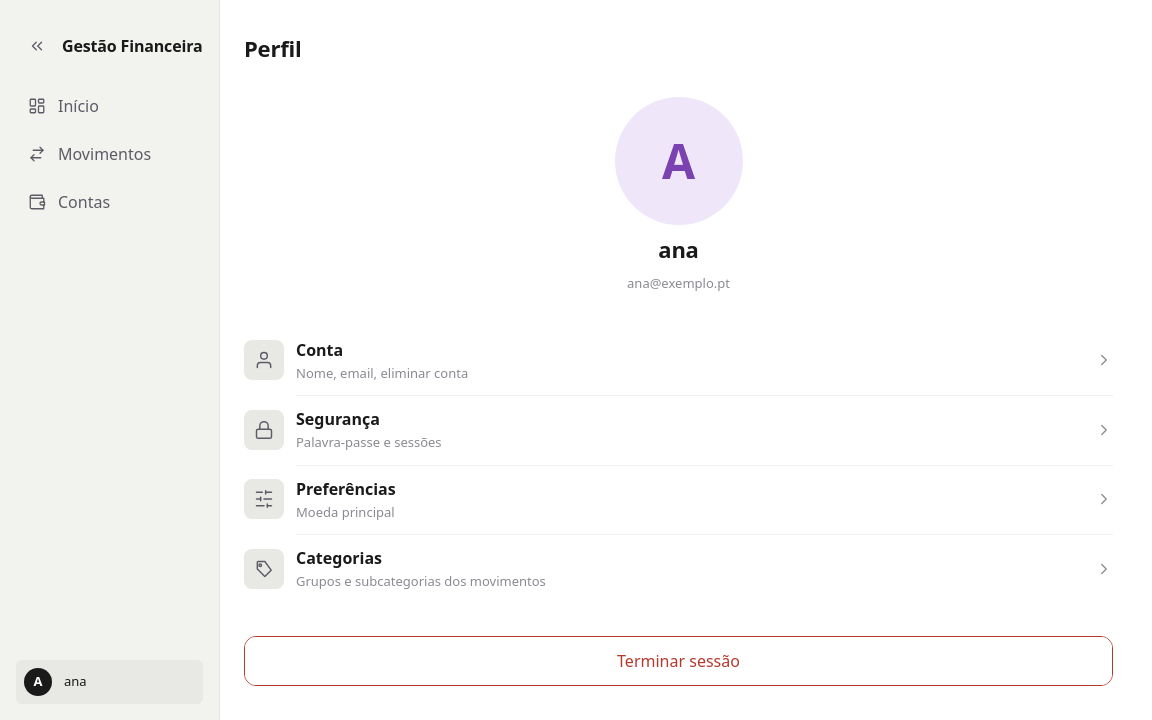
Test: Moldura da aplicação › a secção "Categorias" do Perfil leva à página real de gestão, não a "Em breve"
Check: the heading "Perfil" is shown, box [244,32,301,65]
Click the link "Categorias Grupos e subcategorias dos movimentos".
click(264, 569)  # box [228,534,1129,604]
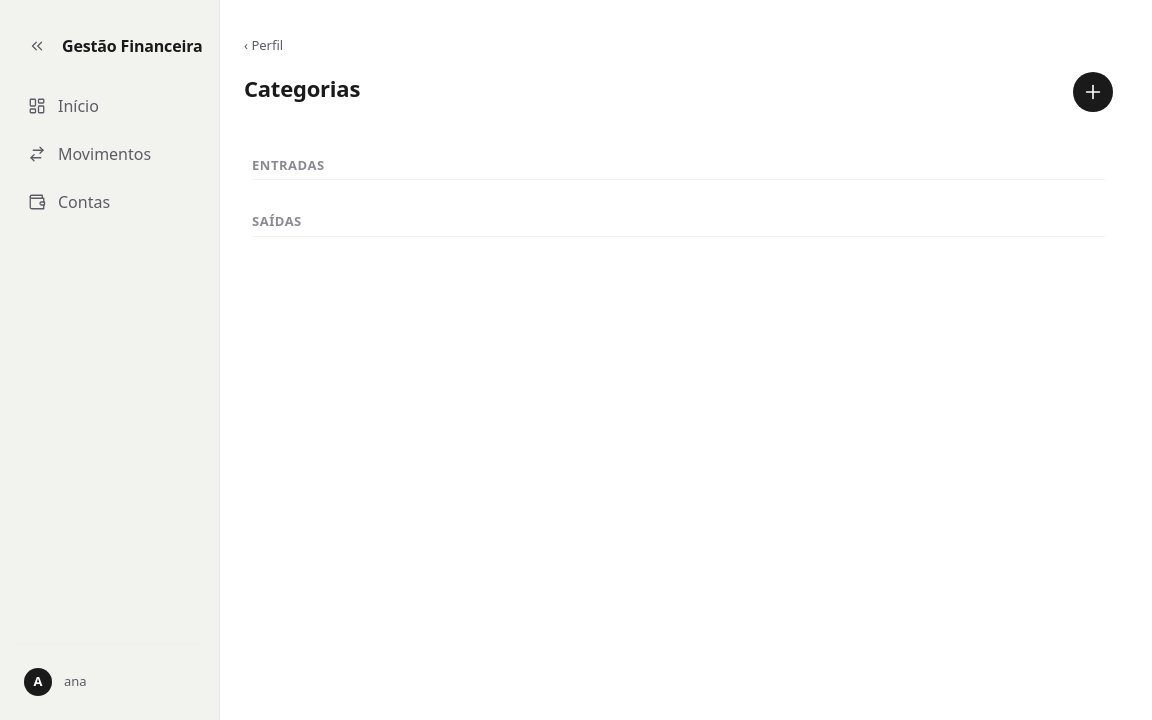
Check: the heading "Categorias" is shown, box [244,72,360,104]
